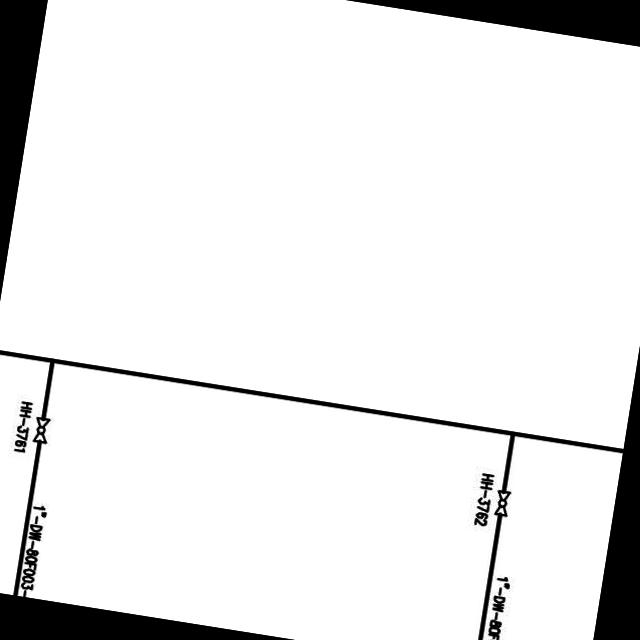BV2: (492, 486, 514, 520), (30, 416, 52, 446)
